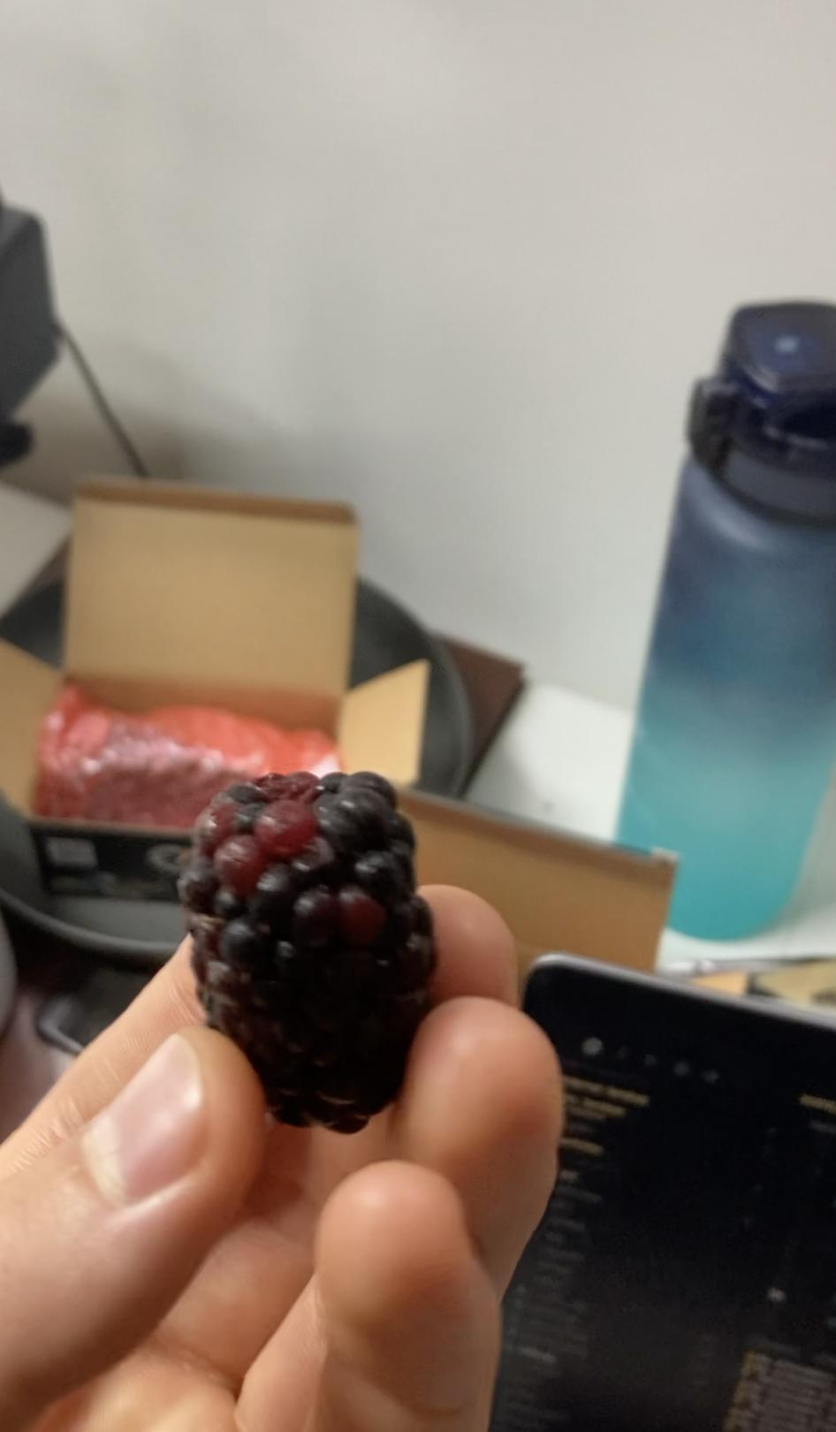berry: (179, 773, 435, 1133)
red drouplet: (253, 794, 315, 859), (213, 833, 270, 898), (339, 887, 384, 941), (194, 799, 230, 859)
